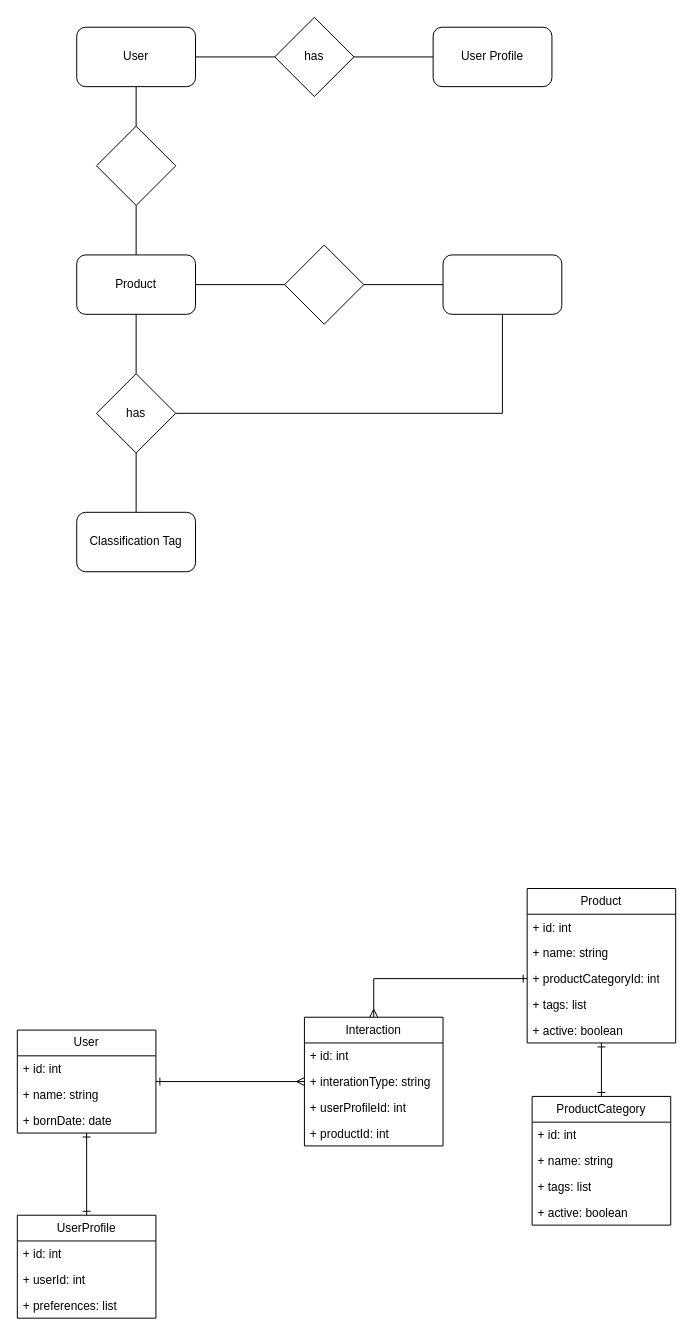
Some shapes in this 693 by 1338 pixel diagram are drawn without their labels. Each missing label, with the centre of its shape:
association: point (324, 284)
interation: point (136, 165)
Product Category: point (502, 284)
